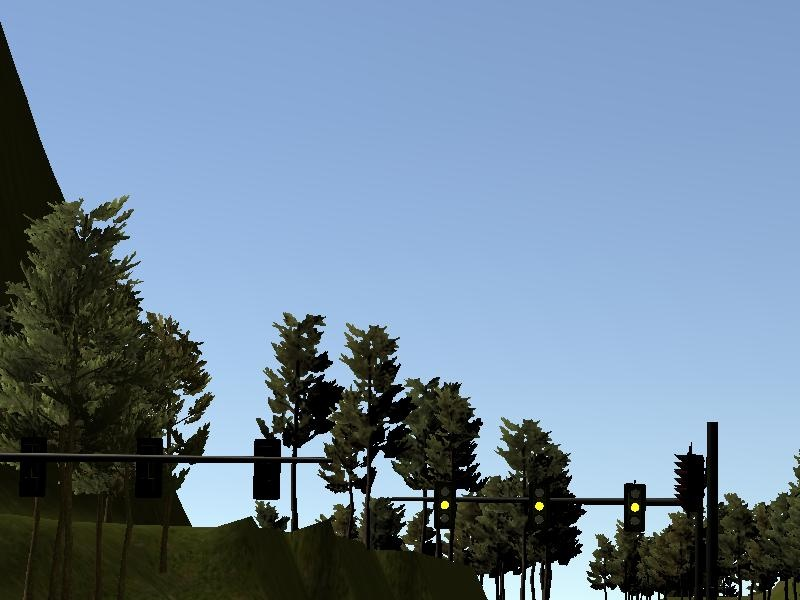YELLOW: (432, 478, 454, 528), (527, 481, 549, 531), (623, 481, 645, 531)
